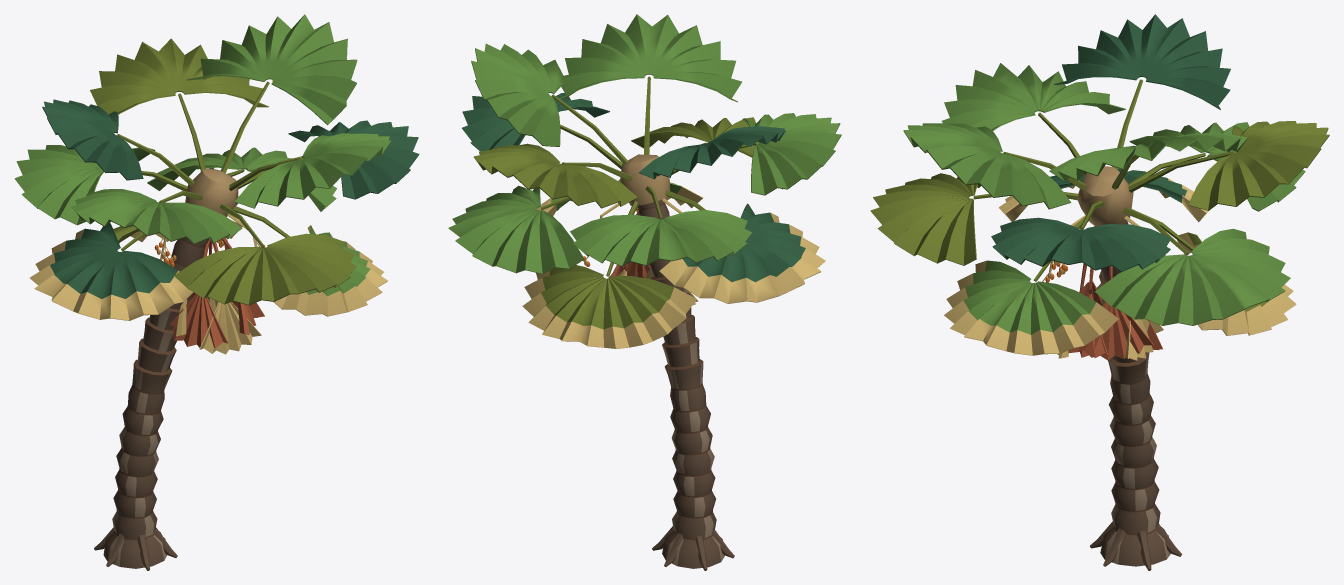
The model's file is deco_tree_palm.fbx.
3 renders of one model, left to right at view 1: azimuth 30°, elevation 25°; view 2: azimuth 150°, elevation 25°; view 3: azimuth 270°, elevation 25°, orthographic. The views are drawn at different scales.
Parts seen in each view (by area): view 1: Tree_Palm_Fronds, Tree_Palm_Trunk; view 2: Tree_Palm_Fronds, Tree_Palm_Trunk; view 3: Tree_Palm_Fronds, Tree_Palm_Trunk.
Part boxes in pixels (<box>): Tree_Palm_Fronds: <box>14,14,419,354</box>; Tree_Palm_Trunk: <box>94,168,238,570</box>; Tree_Palm_Fronds: <box>448,14,841,348</box>; Tree_Palm_Trunk: <box>619,154,734,570</box>; Tree_Palm_Fronds: <box>870,14,1329,360</box>; Tree_Palm_Trunk: <box>1077,166,1182,570</box>.
Size of the model in its own units: 535 by 680 by 543.
